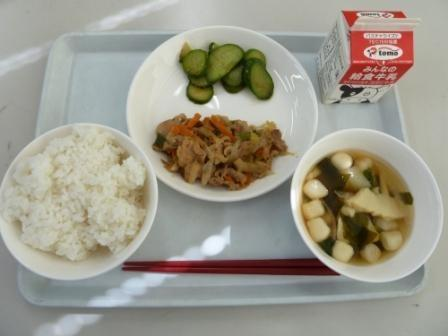Milk: (319, 14, 417, 108)
Rice: (6, 121, 150, 273)
Soups: (299, 134, 436, 273)
pickled cucumber: (166, 37, 278, 102)
vegetable based cooked food: (144, 109, 289, 193)
